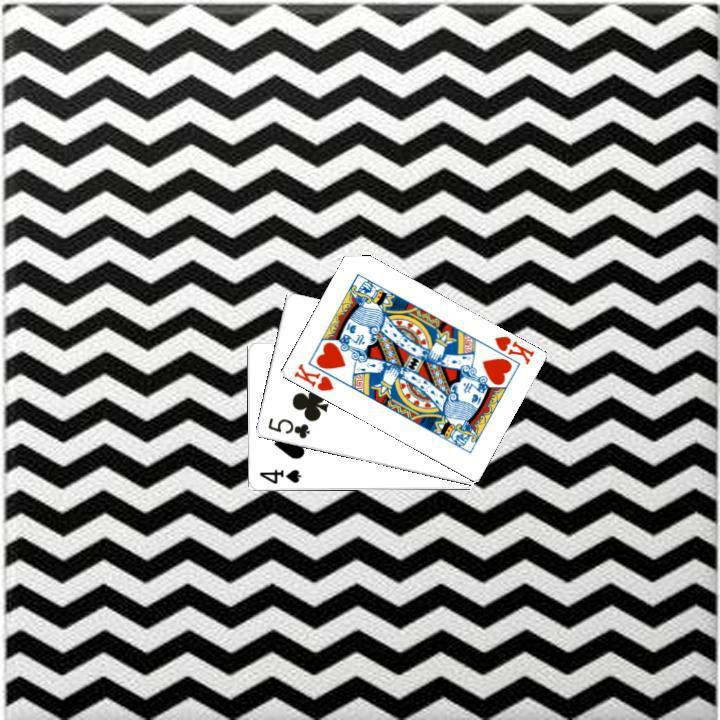4: (255, 465, 302, 486)
5: (263, 414, 311, 441)
K: (289, 359, 335, 394), (490, 332, 536, 367)
